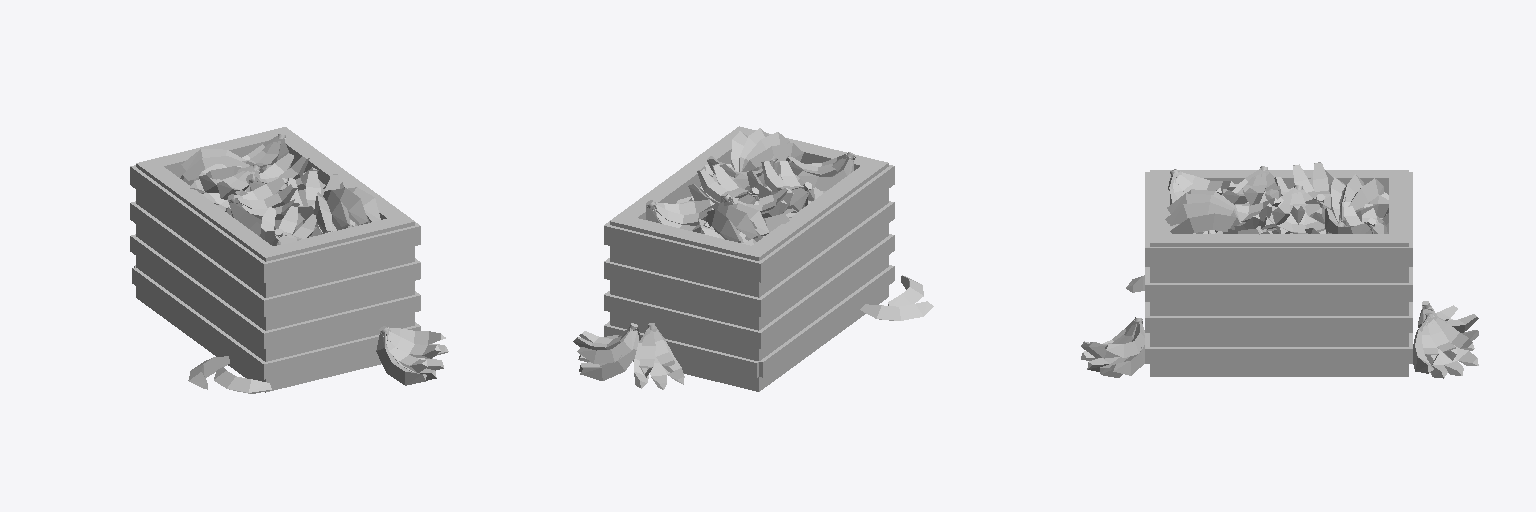
The model's file is BananaCrateWithBanana.obj.
3 views of the same model, side by side, from view 1: azimuth 30°, elevation 25°; view 2: azimuth 150°, elevation 25°; view 3: azimuth 270°, elevation 25° (orthographic).
Bounding box in the file's own units: 5.98 × 4.16 × 9.24.